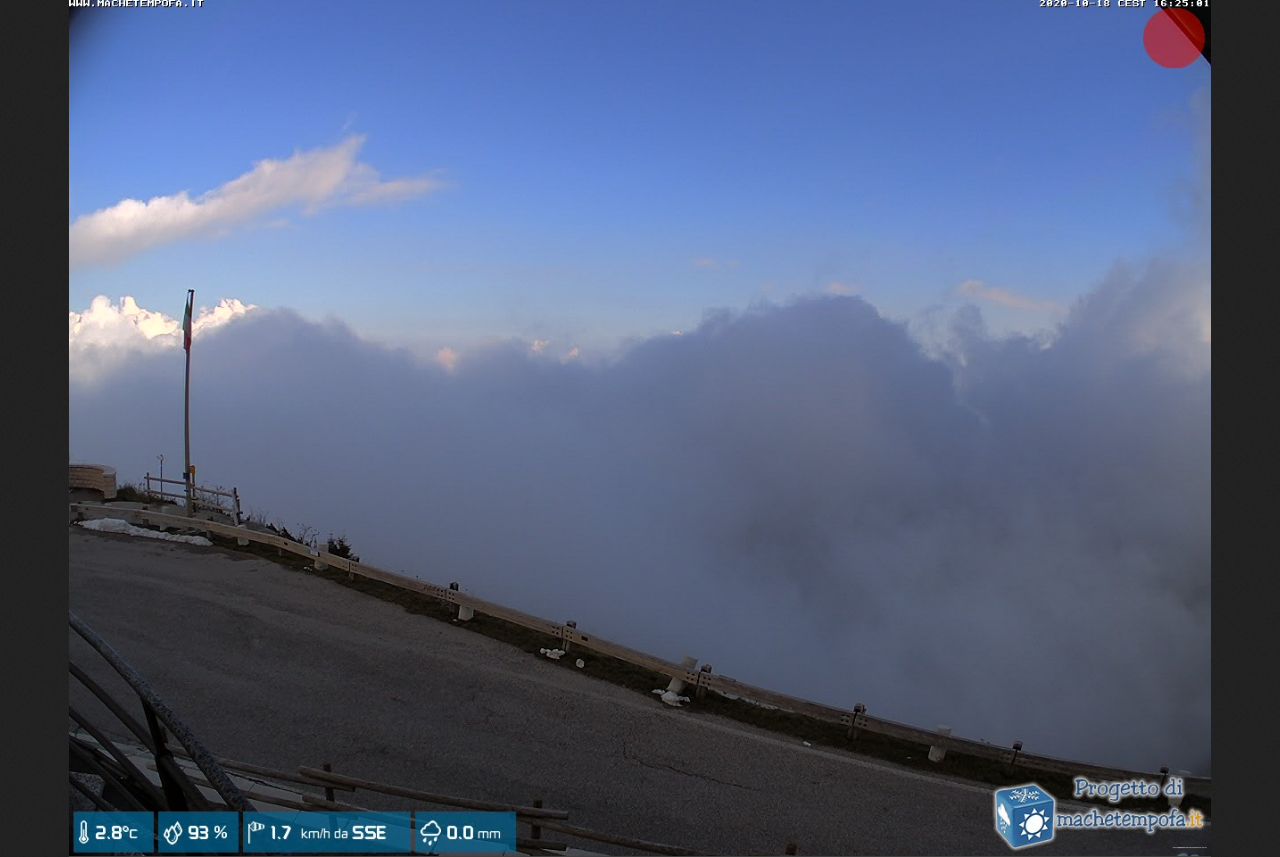no: (181, 298, 193, 351)
